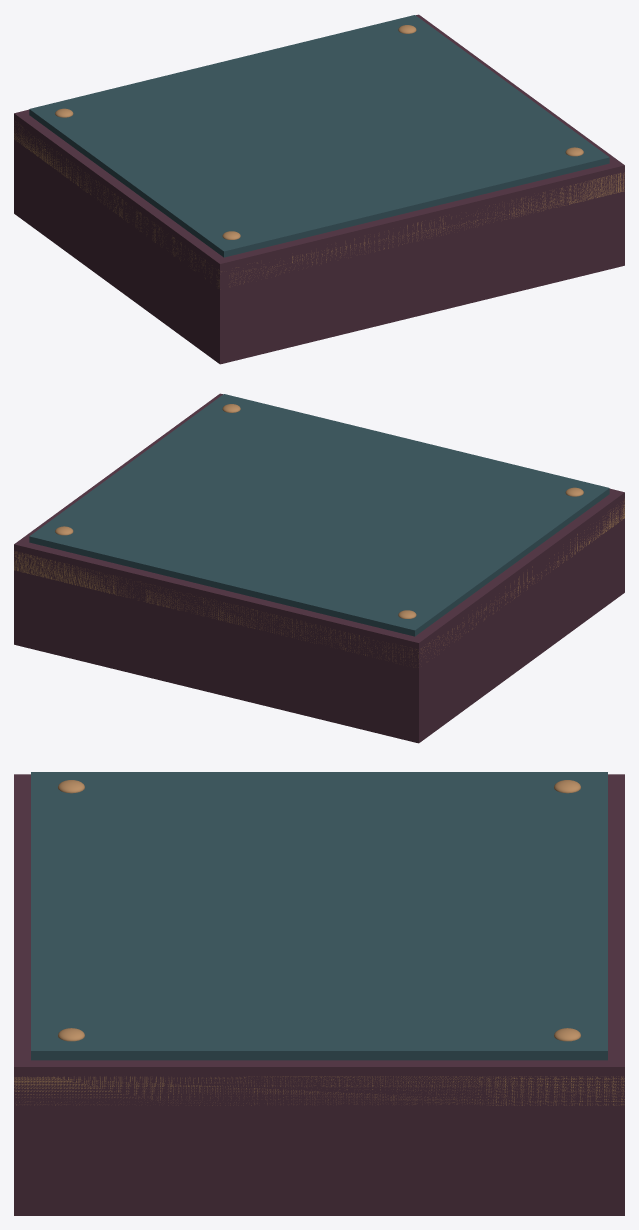
Rendered from woodcut-display-foot.glb.
The picture shows the model from 3 angles, top to bottom: view 1: azimuth 30°, elevation 25°; view 2: azimuth 150°, elevation 25°; view 3: azimuth 270°, elevation 25°; orthographic projection. The views are drawn at different scales.
Parts seen in each view (by area): view 1: Felt pad, Worked wood foot, Brass band; view 2: Felt pad, Worked wood foot, Brass band; view 3: Felt pad, Worked wood foot, Brass band.
Part boxes in pixels (x1,y1,x2,y2): Felt pad: [29, 15, 609, 257]; Worked wood foot: [14, 14, 624, 364]; Brass band: [14, 121, 624, 288]; Felt pad: [29, 394, 609, 636]; Worked wood foot: [14, 393, 624, 743]; Brass band: [14, 499, 624, 667]; Felt pad: [31, 772, 607, 1060]; Worked wood foot: [14, 774, 624, 1215]; Brass band: [14, 1076, 624, 1105].
Bounding box in the file's own units: 0.76 × 0.197 × 0.67.
